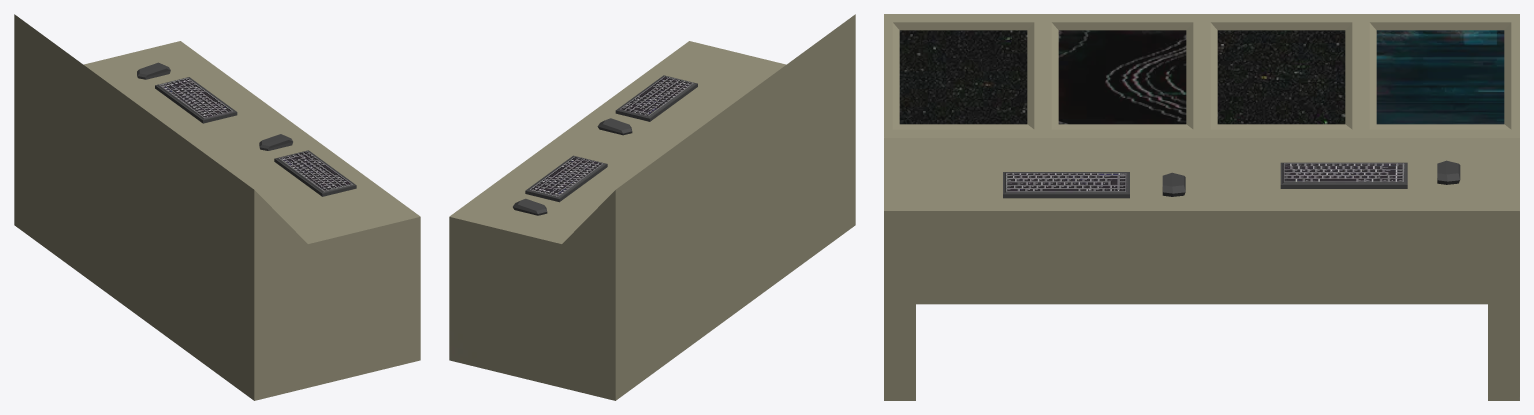
The model's file is MRIControlPanel-transformed.glb.
3 views of the same model, side by side, from view 1: azimuth 30°, elevation 25°; view 2: azimuth 150°, elevation 25°; view 3: azimuth 270°, elevation 25° (orthographic). The views are drawn at different scales.
Visible parts, largest first — view 1: Desk_Main_0, Keyboards+Mouses_Keyboard_Body_0; view 2: Desk_Main_0, Keyboards+Mouses_Keyboard_Body_0; view 3: Desk_Main_0, Keyboards+Mouses_Keyboard_Body_0.
Part boxes in pixels (x1,y1,x2,y2): Desk_Main_0: (14,14,420,400); Keyboards+Mouses_Keyboard_Body_0: (137,62,356,196); Desk_Main_0: (449,14,855,400); Keyboards+Mouses_Keyboard_Body_0: (513,75,697,215); Desk_Main_0: (884,14,1519,400); Keyboards+Mouses_Keyboard_Body_0: (899,30,1504,198).
Bounding box in the file's own units: 4 × 4.85 × 10.
Materials: 2 (2 with a texture image).
